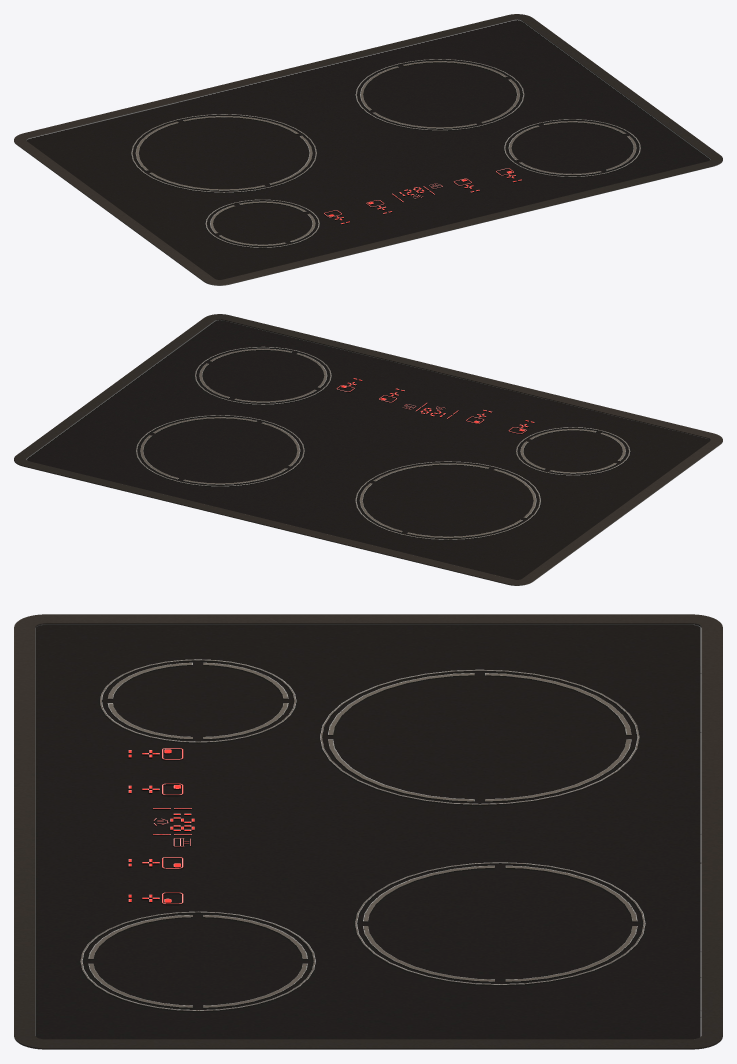
Rendered from stove.glb.
The picture shows the model from 3 angles, top to bottom: view 1: azimuth 30°, elevation 25°; view 2: azimuth 150°, elevation 25°; view 3: azimuth 270°, elevation 25°; orthographic projection. The views are drawn at different scales.
Parts seen in each view (by area): view 1: KitchenTop_01; view 2: KitchenTop_01; view 3: KitchenTop_01.
Boxes of the visible parts, box(x1,y1,x2,y2) form: KitchenTop_01: box(14, 14, 722, 285); KitchenTop_01: box(14, 314, 722, 585); KitchenTop_01: box(14, 614, 722, 1049).
Bounding box in the file's own units: 69.69 × 0.1 × 48.12.
Materials: 4 (4 with a texture image).
